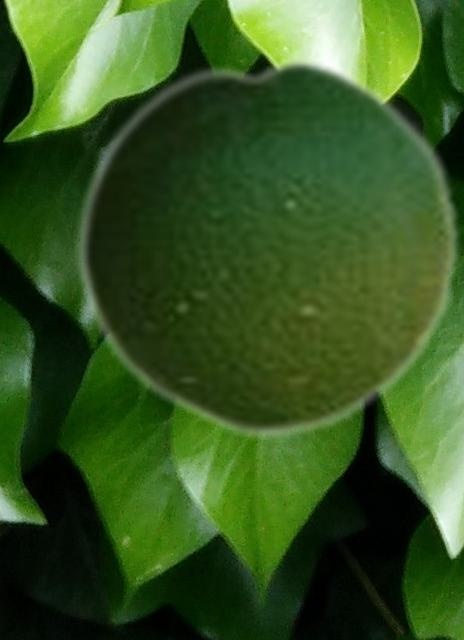dalandan: (74, 51, 461, 442)
